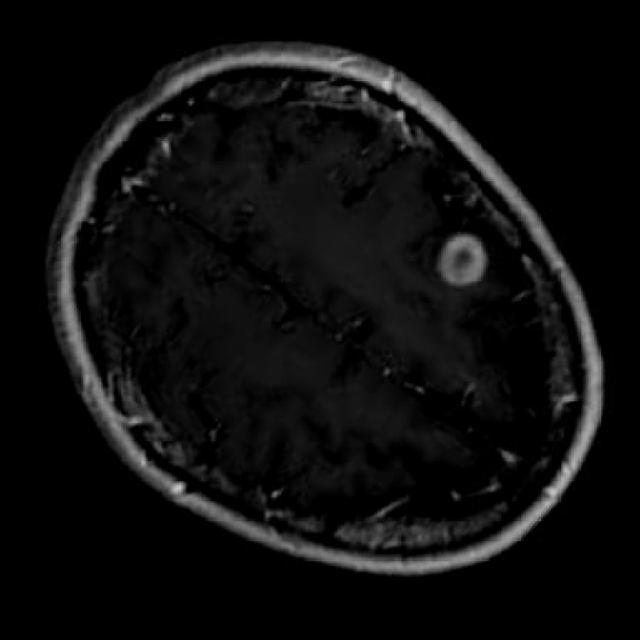Brain-Tumor: (416, 210, 506, 302)
